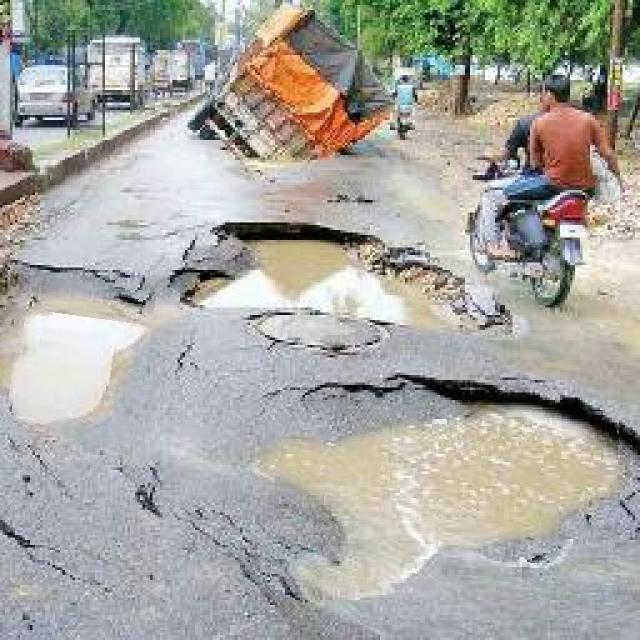puddle: (274, 404, 619, 593), (195, 224, 457, 322), (1, 277, 153, 443)
